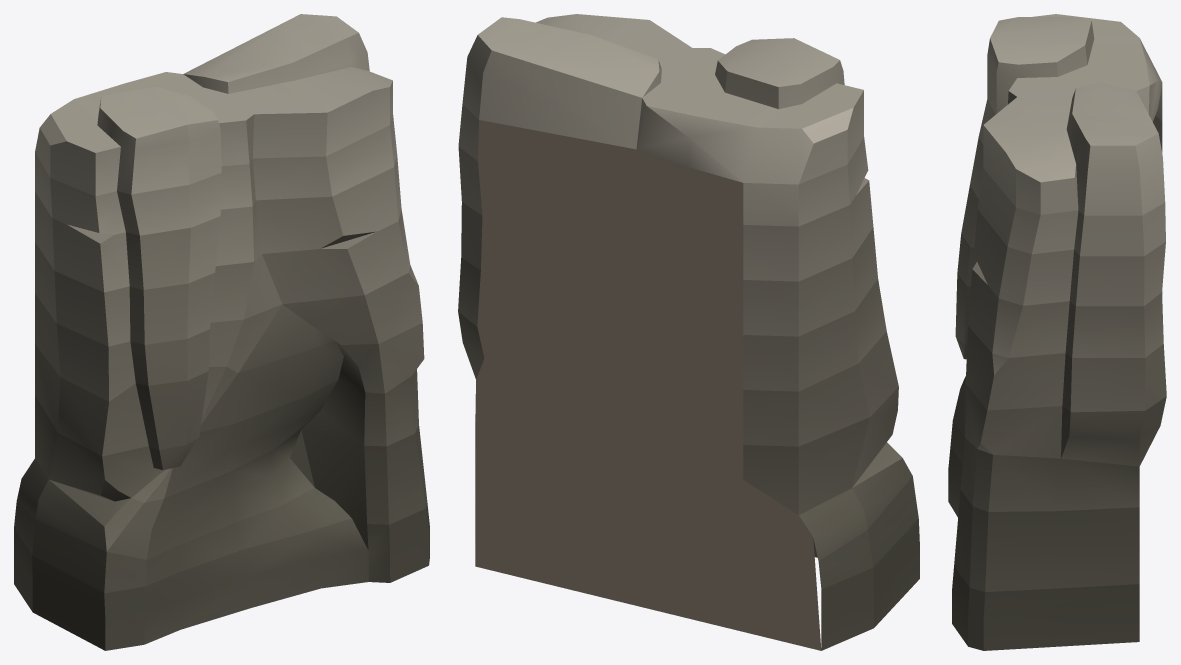
Rendered from Canyon_Wall_2B.fbx.
3 renders of one model, left to right at view 1: azimuth 30°, elevation 25°; view 2: azimuth 150°, elevation 25°; view 3: azimuth 270°, elevation 25°, orthographic. The views are drawn at different scales.
Parts seen in each view (by area): view 1: Canyon_Wall_2B; view 2: Canyon_Wall_2B; view 3: Canyon_Wall_2B.
Part boxes in pixels (left/top/right/bottom): Canyon_Wall_2B: left=14, top=14, right=429, bottom=650; Canyon_Wall_2B: left=458, top=14, right=919, bottom=650; Canyon_Wall_2B: left=948, top=14, right=1166, bottom=650.
Bounding box in the file's own units: 2362 × 3132 × 1250.
